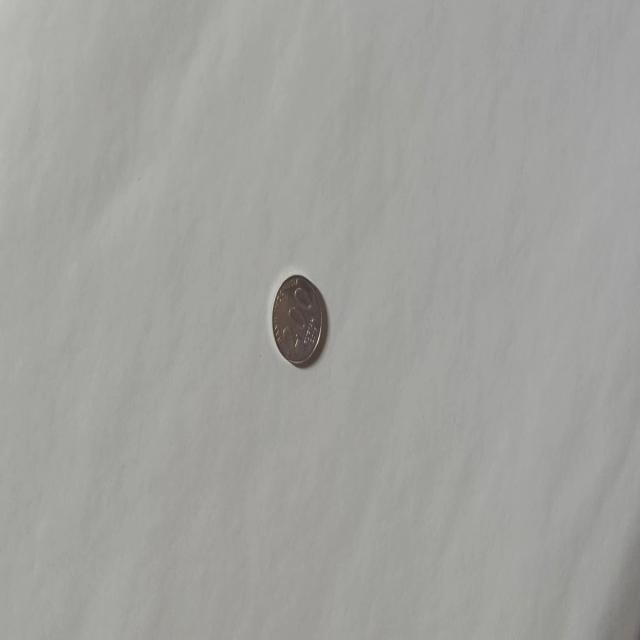dua ratus rupiah: (270, 272, 324, 367)
